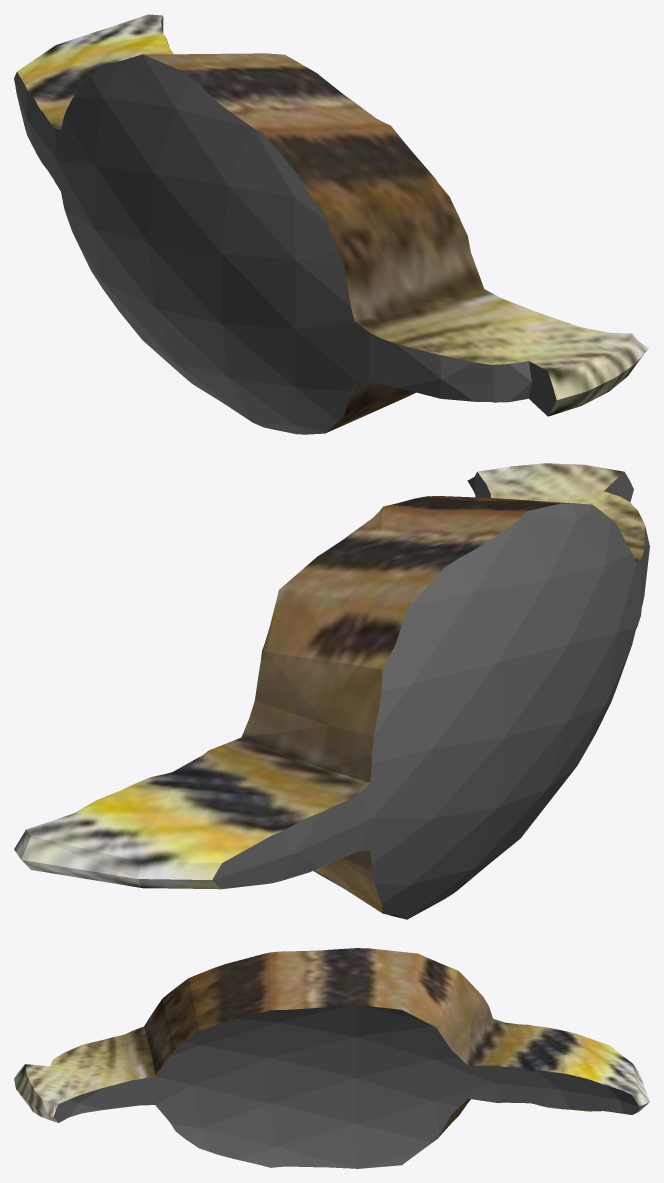
3 renders of one model, top to bottom at view 1: azimuth 30°, elevation 25°; view 2: azimuth 150°, elevation 25°; view 3: azimuth 270°, elevation 25°, orthographic. The views are drawn at different scales.
Parts seen in each view (by area): view 1: link_9_visual; view 2: link_9_visual; view 3: link_9_visual.
Boxes of the visible parts, <box> form: link_9_visual: <box>14,14,649,434</box>; link_9_visual: <box>14,463,649,919</box>; link_9_visual: <box>14,948,649,1168</box>.
Bounding box in the file's own units: 0.00131 × 0.00143 × 0.00415.
1 material, 1 textured.
